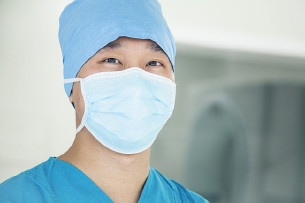Mask: (70, 36, 188, 153)
